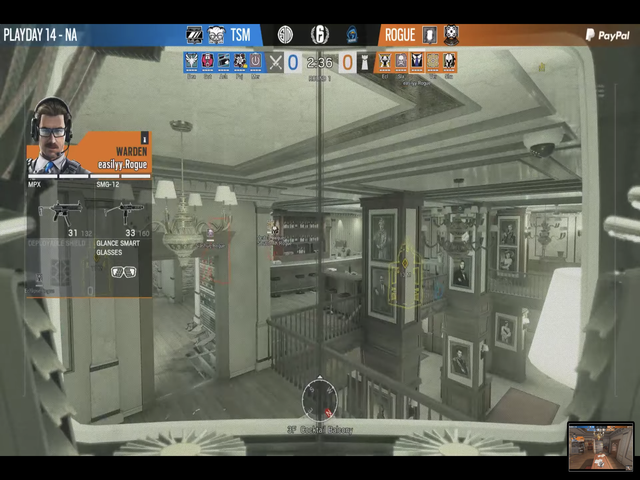0_blue: (283, 51, 302, 72)
